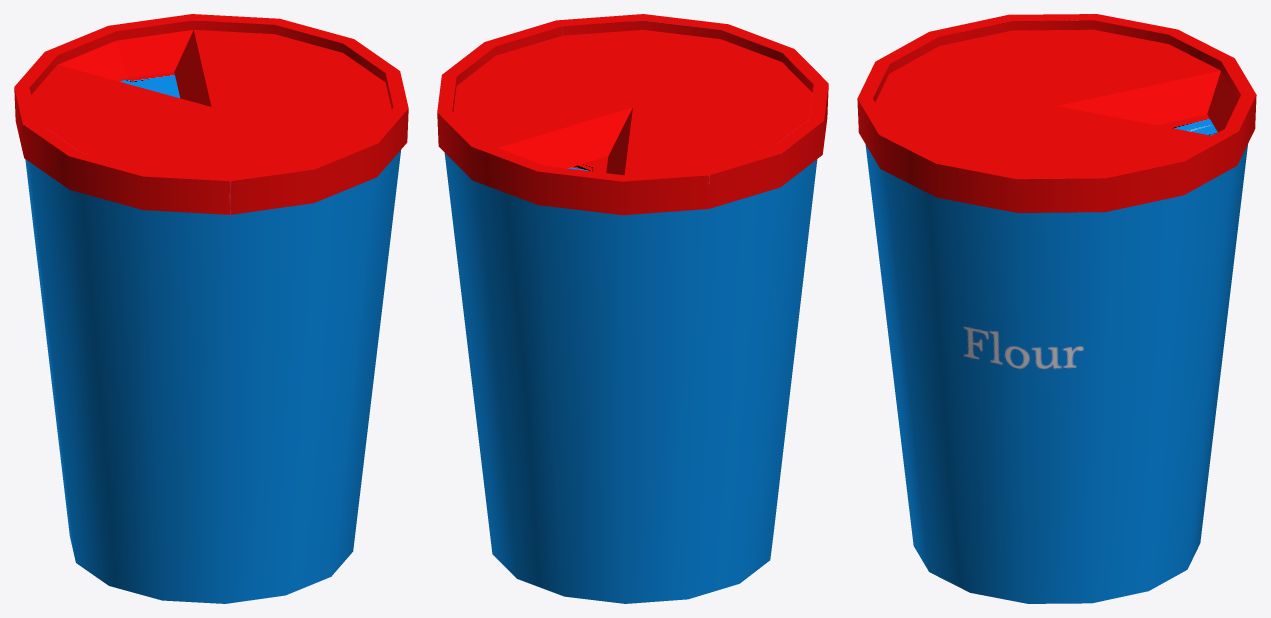
The model's file is FLOUR BUCKET.fbx.
The picture shows the model from 3 angles, left to right: view 1: azimuth 30°, elevation 25°; view 2: azimuth 150°, elevation 25°; view 3: azimuth 270°, elevation 25°; orthographic projection.
Parts seen in each view (by area): view 1: sos_game_play_models:flour_bucket__; view 2: sos_game_play_models:flour_bucket__; view 3: sos_game_play_models:flour_bucket__.
Part boxes in pixels (left/top/right/bottom): sos_game_play_models:flour_bucket__: left=14, top=14, right=408, bottom=603; sos_game_play_models:flour_bucket__: left=437, top=14, right=828, bottom=603; sos_game_play_models:flour_bucket__: left=857, top=14, right=1256, bottom=603.
Bounding box in the file's own units: 20.73 × 26.2 × 21.16.
1 material, 1 textured.
